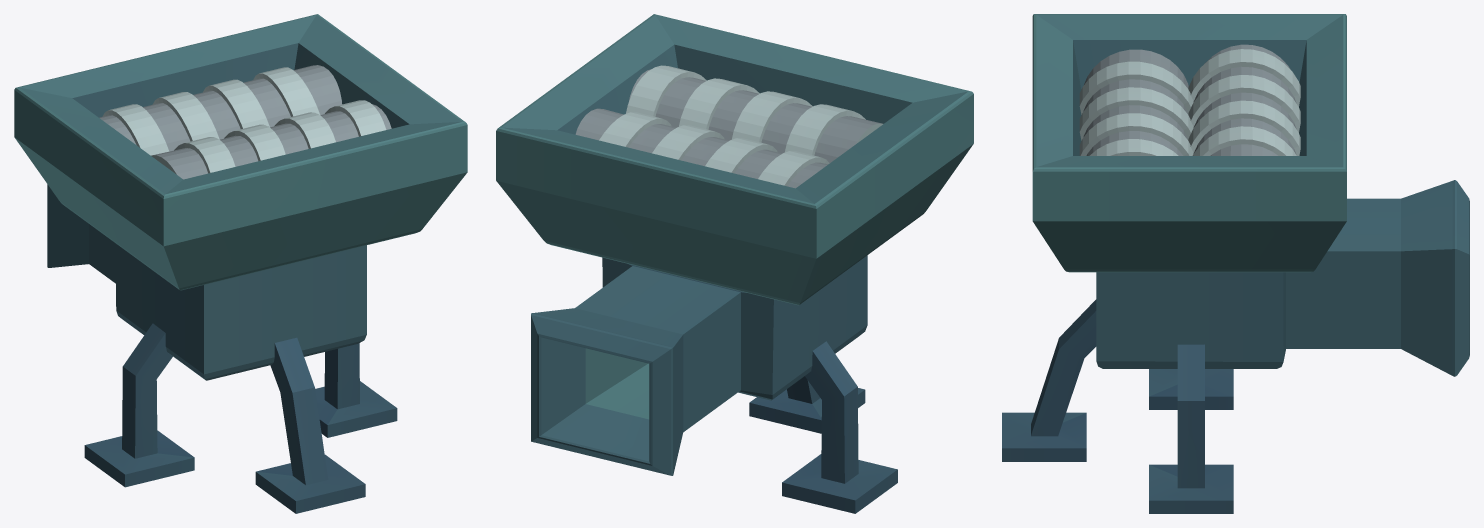
The model's file is recycle4.fbx.
3 views of the same model, side by side, from view 1: azimuth 30°, elevation 25°; view 2: azimuth 150°, elevation 25°; view 3: azimuth 270°, elevation 25° (orthographic). The views are drawn at different scales.
Parts seen in each view (by area): view 1: Cube, Cube.001, Cylinder, Cylinder.004; view 2: Cube, Cylinder.004, Cube.001, Cylinder; view 3: Cube, Cube.001, Cylinder, Cylinder.004.
Part boxes in pixels (x1,y1,x2,y2): Cube: (14,14,467,380); Cube.001: (84,323,397,513); Cylinder: (99,65,342,155); Cylinder.004: (151,100,391,179); Cube: (496,14,973,475); Cylinder.004: (626,65,882,162); Cube.001: (749,341,897,513); Cylinder: (575,108,829,188); Cube: (1032,14,1469,376); Cube.001: (1002,299,1233,513); Cylinder: (1188,44,1300,155); Cylinder.004: (1079,49,1193,155).
Bounding box in the file's own units: 405 × 428 × 514.
1 material, 1 textured.
